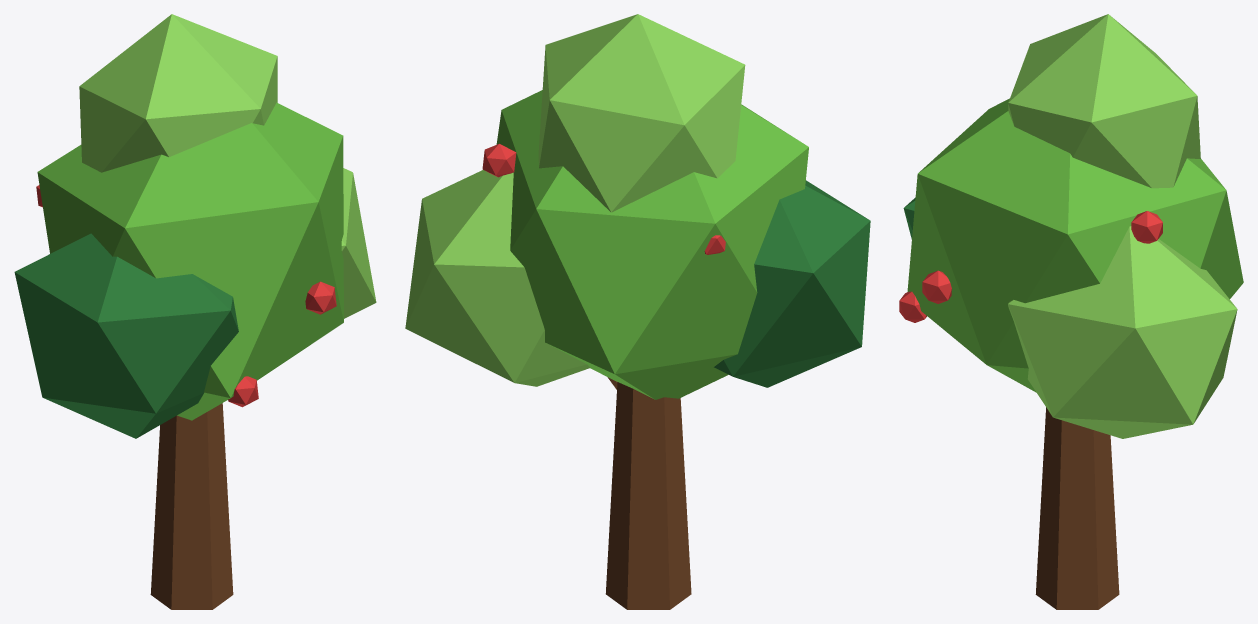
The model's file is RoundTree.fbx.
The picture shows the model from 3 angles, left to right: view 1: azimuth 30°, elevation 25°; view 2: azimuth 150°, elevation 25°; view 3: azimuth 270°, elevation 25°; orthographic projection. The views are drawn at different scales.
Parts seen in each view (by area): view 1: Round Tree; view 2: Round Tree; view 3: Round Tree.
Boxes of the visible parts, left/top/right/bottom form: Round Tree: left=14, top=14, right=376, bottom=609; Round Tree: left=405, top=14, right=870, bottom=609; Round Tree: left=899, top=14, right=1243, bottom=609.
Size of the model in its own units: 5.54 by 8.24 by 4.45.
Materials: 1 (1 with a texture image).
